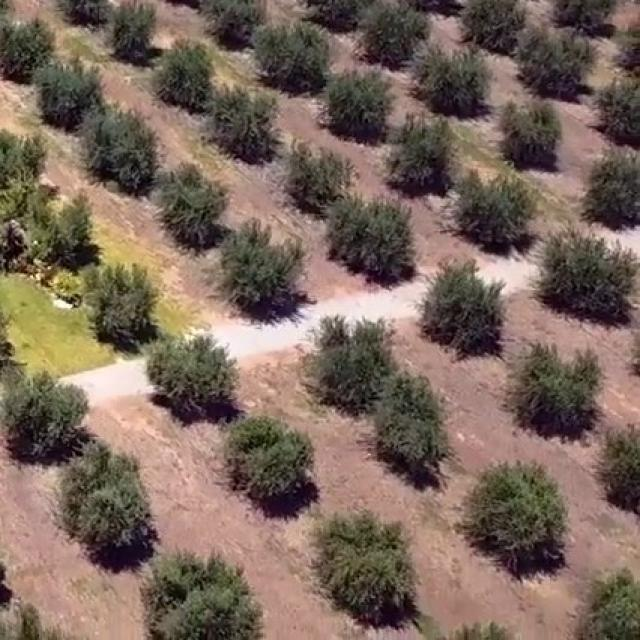trees: (191, 400, 336, 508), (406, 244, 529, 365), (43, 428, 161, 554), (306, 511, 438, 621), (126, 324, 244, 446), (449, 456, 570, 572), (113, 559, 277, 640), (362, 366, 462, 481), (541, 220, 640, 334), (0, 357, 96, 467), (211, 224, 311, 326), (300, 306, 396, 406), (84, 245, 167, 358), (520, 334, 604, 438), (451, 164, 545, 246), (328, 193, 416, 280), (84, 96, 160, 193), (381, 106, 466, 190), (405, 35, 494, 115), (490, 87, 567, 169), (314, 65, 393, 141), (510, 27, 598, 92), (205, 80, 281, 153), (24, 53, 108, 119), (276, 142, 356, 211), (580, 134, 640, 224), (252, 19, 330, 87), (162, 160, 232, 233), (350, 0, 430, 62), (151, 38, 222, 103), (0, 13, 66, 78), (455, 0, 530, 55), (102, 1, 156, 64), (590, 72, 640, 135), (199, 0, 262, 47)
